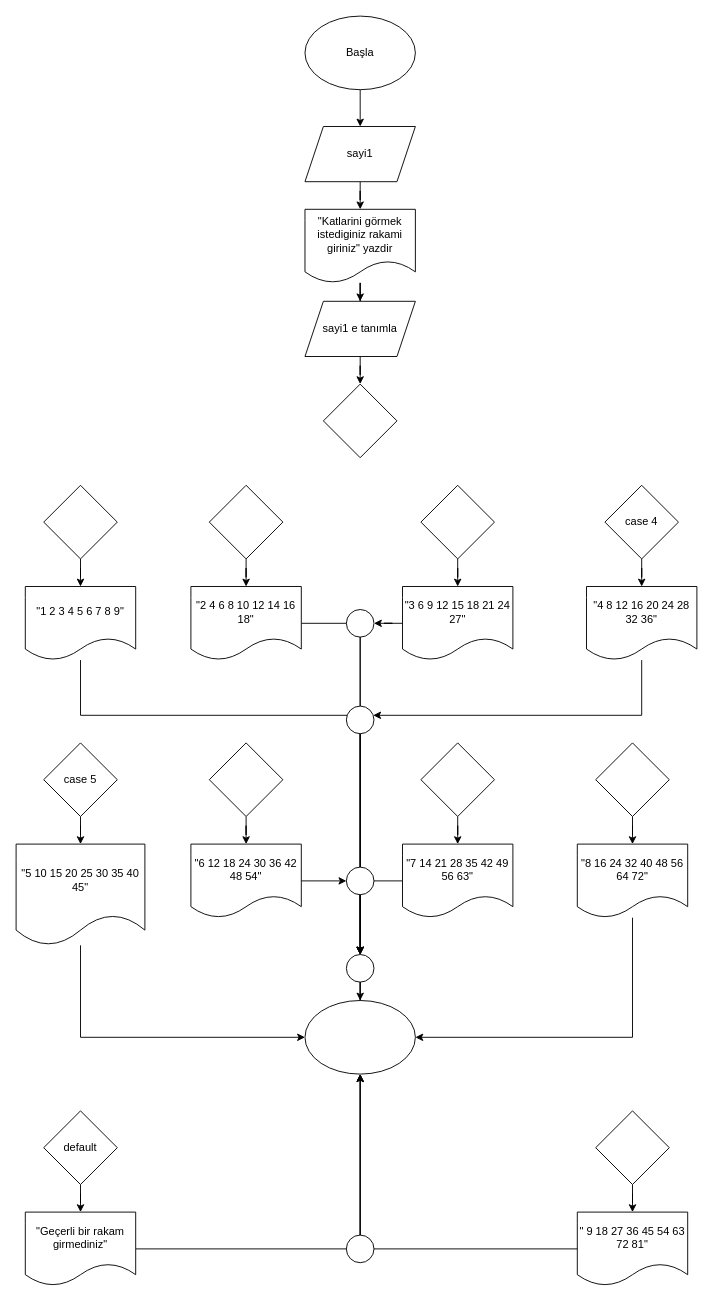
The diagram is 713 pixels wide and 1302 high, and some of its shapes have lost their labels. The centre of each missing label's shape, as x and y in pixels:
Bitir: the point at 359,1037
case 1: the point at 80,521
case 2: the point at 245,521
case 3: the point at 457,521
case 6: the point at 245,779
case 7: the point at 457,779
case 8: the point at 632,779
case 9: the point at 632,1147
switch sayi1: the point at 359,420
